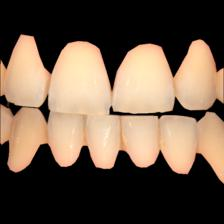cavity: (7, 115, 20, 144), (46, 72, 54, 99), (118, 131, 129, 150), (42, 125, 52, 144)
tooth: (51, 34, 115, 115), (111, 42, 172, 114), (5, 30, 53, 110), (175, 39, 220, 113), (6, 105, 42, 174), (162, 115, 197, 176), (50, 113, 85, 169), (85, 116, 121, 170), (124, 117, 160, 170), (201, 111, 224, 184)
